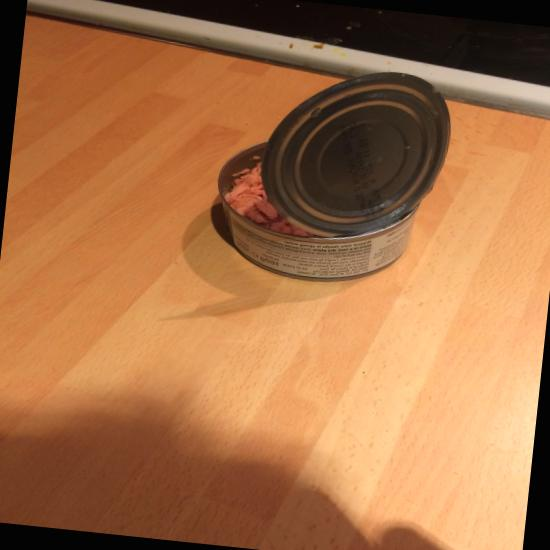Food Can: (218, 72, 450, 282)
Food waste: (225, 162, 315, 237)
